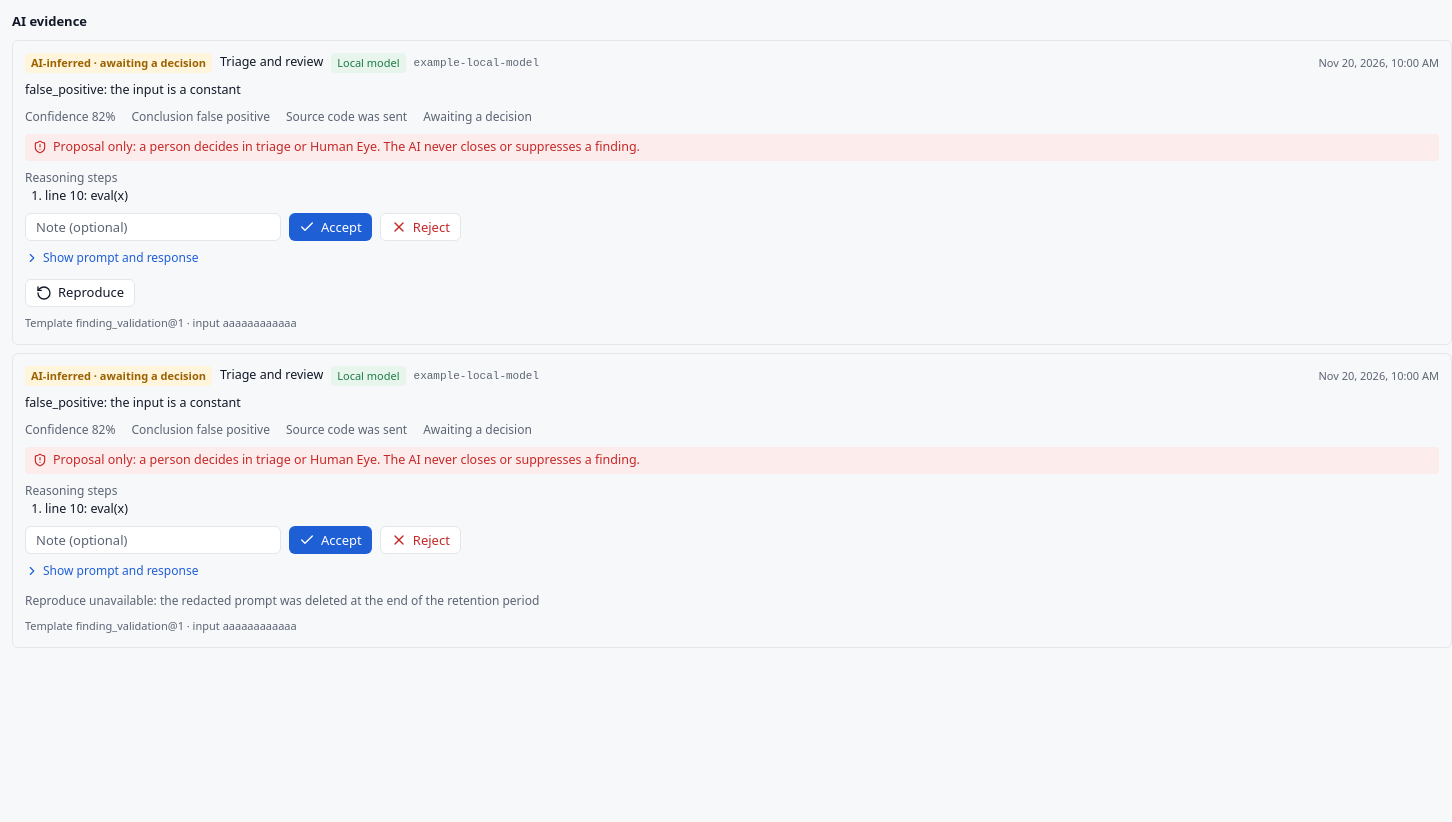
Test: AIEvidencePanel › Reproduce shows the comparison; an unavailable replay says why
Expected: the text "Reproduce unavailable: the redacted prompt was deleted" is shown, [25,592,539,609]
What coordinates should you click on to do the following:
click the button "Reproduce"
I would click on:
 (80, 293)
Its box is [25,279,135,307].
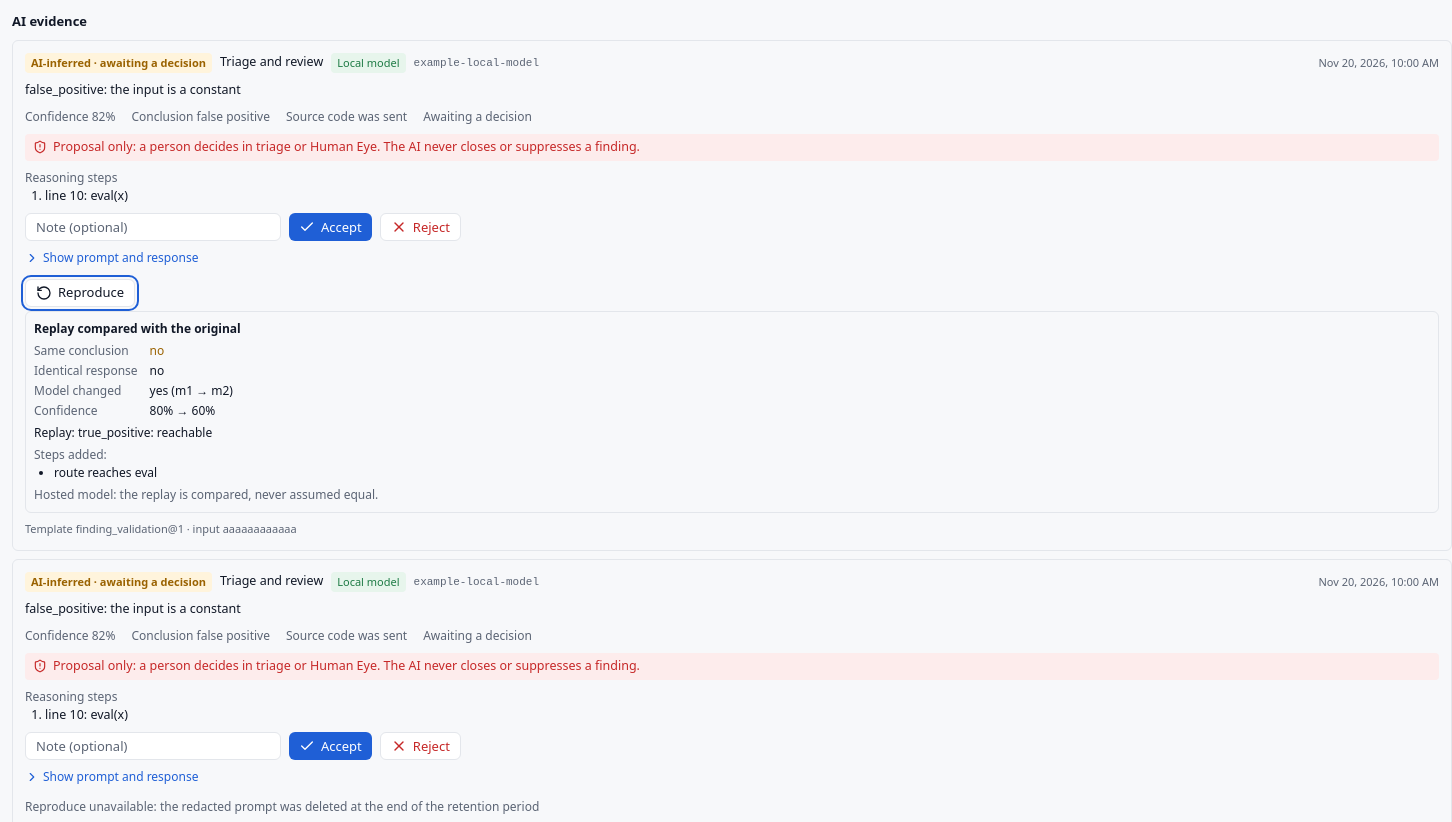
Expected: the element with test id "replay-comparison" shows "m1 → m2", [168,382,233,399]
Expected: the element with test id "replay-comparison" shows "route reaches eval", [54,464,157,481]
Expected: the element with test id "replay-comparison" shows "never assumed equal", [34,486,378,503]
